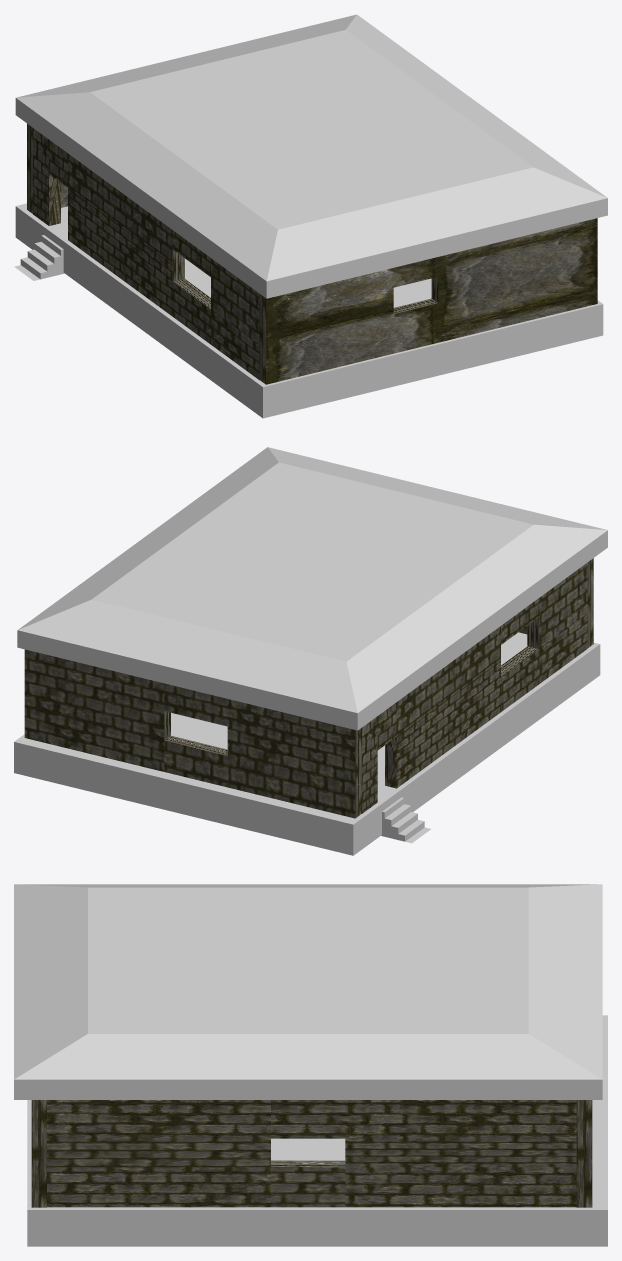
Rendered from casatxt2.fbx.
The picture shows the model from 3 angles, top to bottom: view 1: azimuth 30°, elevation 25°; view 2: azimuth 150°, elevation 25°; view 3: azimuth 270°, elevation 25°; orthographic projection. The views are drawn at different scales.
Visible parts, largest first — view 1: Cube, Pared1, Cube.001, Pared2, Stairs, Pared3; view 2: Cube, Pared3, Cube.001, Pared2, Stairs, Pared1; view 3: Cube, Pared4, Cube.001, Pared3, Pared1.
Part boxes in pixels (bbox=[...]): Cube: bbox=[15, 14, 607, 298]; Pared1: bbox=[259, 218, 597, 384]; Cube.001: bbox=[15, 203, 603, 418]; Pared2: bbox=[33, 128, 259, 379]; Stairs: bbox=[14, 235, 64, 280]; Pared3: bbox=[27, 123, 67, 213]; Cube: bbox=[17, 447, 607, 730]; Pared3: bbox=[24, 649, 361, 818]; Cube.001: bbox=[14, 632, 600, 855]; Pared2: bbox=[361, 562, 587, 813]; Stairs: bbox=[381, 797, 430, 843]; Pared1: bbox=[519, 558, 593, 647]; Cube: bbox=[14, 884, 602, 1099]; Pared4: bbox=[47, 1100, 576, 1207]; Cube.001: bbox=[27, 1015, 607, 1246]; Pared3: bbox=[576, 1100, 592, 1207]; Pared1: bbox=[31, 1100, 46, 1207].
Bounding box in the file's own units: 2394 × 994 × 2833.
